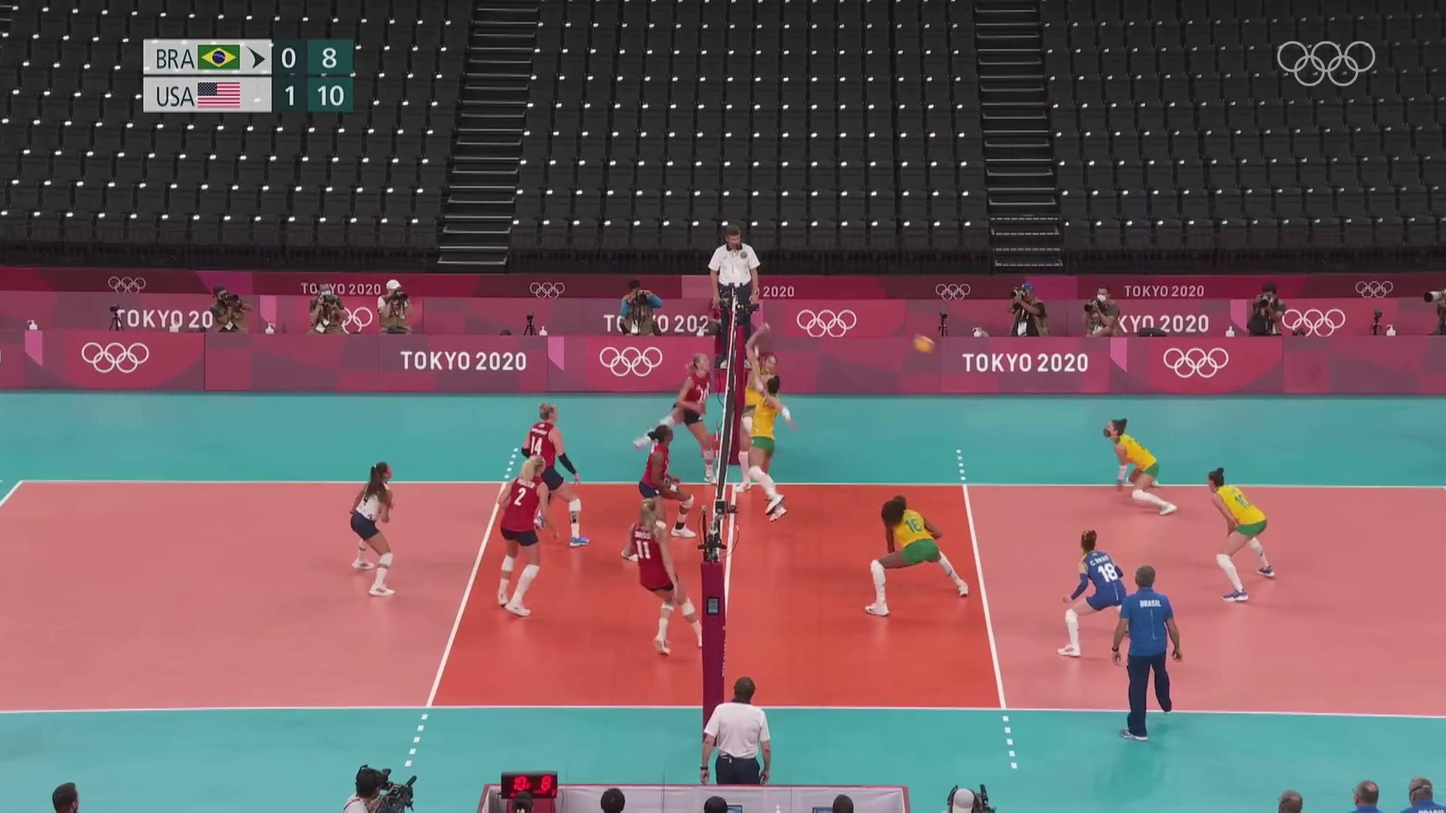player: (499, 405, 588, 551), (867, 495, 975, 613), (631, 501, 708, 660), (634, 353, 718, 485), (492, 454, 558, 618), (1205, 466, 1281, 602), (1060, 530, 1133, 659), (629, 426, 700, 555), (733, 321, 782, 495), (1099, 419, 1176, 516), (749, 375, 794, 521), (350, 463, 398, 595)
refree: (701, 674, 772, 792), (710, 226, 762, 364)
